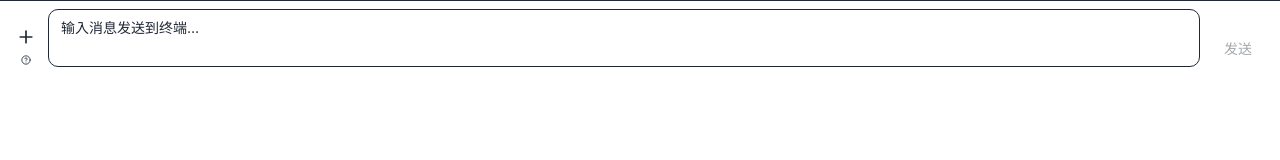
Test case: MessageComposer：发送与回执（W4） › 排队态：列表行「第1位」+ 立即发送/撤回；撤回成功（{ok:true}）→ 免复核直接收敛
The image size is (1280, 160).
Type "跑个长任务" into the text box with test id "composer-input" at (624, 38), box x1=48 y1=9 x2=1200 y2=67
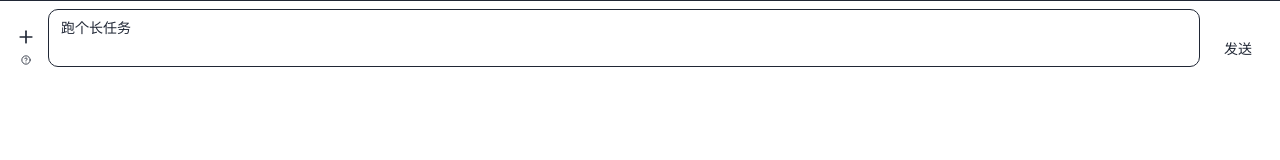
Click the button with test id "composer-send" at (1238, 49), box x1=1208 y1=31 x2=1268 y2=67
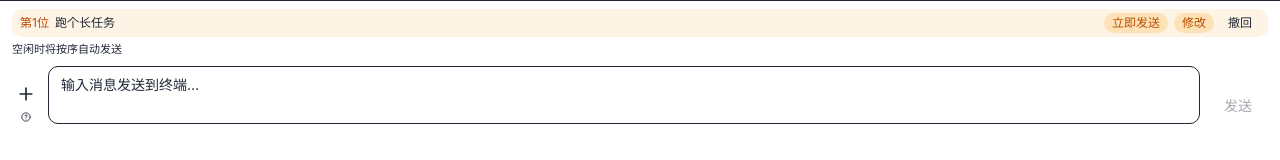
Expected: the list item with test id "queue-row-7" is shown, x1=12 y1=9 x2=1268 y2=37
Expected: the text with test id "queue-position-7" reads "第1位", x1=20 y1=15 x2=49 y2=30
Expected: the button with test id "queue-jump" reads "立即发送", x1=1104 y1=13 x2=1168 y2=33
Click the button with test id "queue-retract" at (1240, 23), box x1=1220 y1=13 x2=1260 y2=33
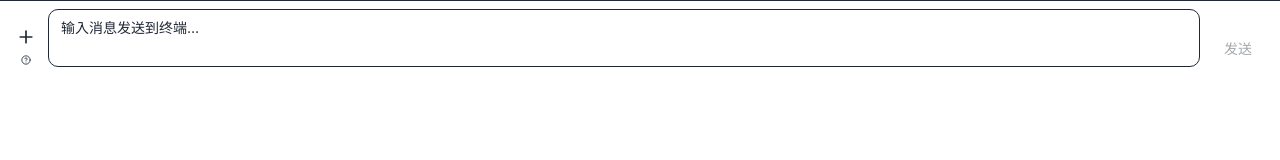
Expected: the list item with test id "queue-row-7" is gone
